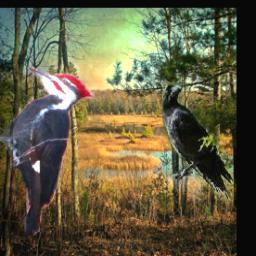Crow: (161, 81, 233, 204)
Woodpecker: (0, 67, 95, 237)
